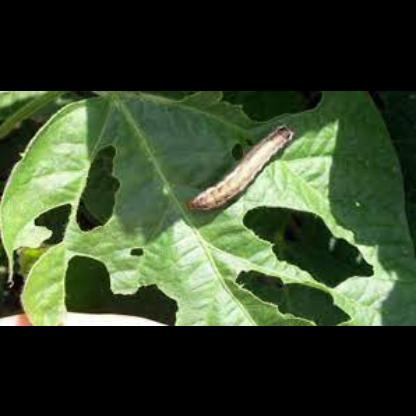agujero: (228, 207, 382, 287), (62, 254, 190, 322), (10, 197, 76, 296), (233, 270, 351, 324), (72, 139, 124, 233), (129, 243, 147, 259)
oruga: (174, 120, 300, 221)
